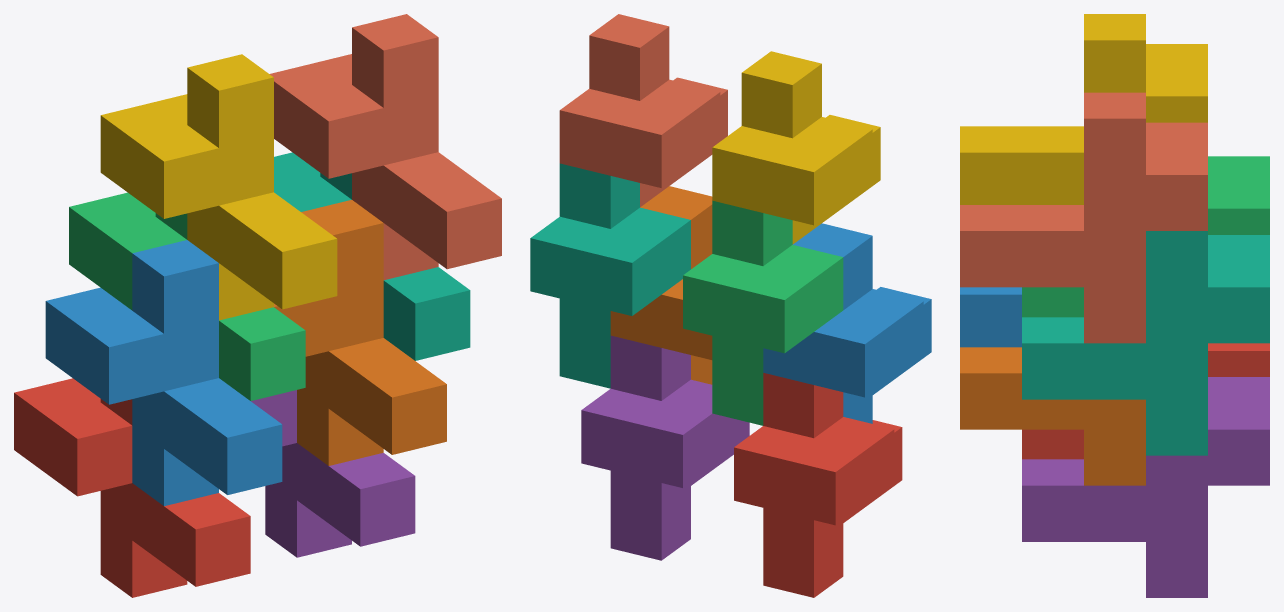
File: tiling.obj
3 renders of one model, left to right at view 1: azimuth 30°, elevation 25°; view 2: azimuth 150°, elevation 25°; view 3: azimuth 270°, elevation 25°, orthographic. The views are drawn at different scales.
Parts seen in each view (by area): view 1: copy_1_domain_2, copy_1_domain_4, copy_1_domain_8, copy_1_domain_1, copy_1_domain_6, copy_1_domain_3, copy_1_domain_5, copy_1_domain_7; view 2: copy_1_domain_1, copy_1_domain_5, copy_1_domain_3, copy_1_domain_7, copy_1_domain_4, copy_1_domain_8, copy_1_domain_2, copy_1_domain_6; view 3: copy_1_domain_8, copy_1_domain_7, copy_1_domain_5, copy_1_domain_4, copy_1_domain_6, copy_1_domain_3, copy_1_domain_1, copy_1_domain_2.
Boxes of the visible parts, x1,y1,x2,y2 form: copy_1_domain_2: [45, 240, 282, 506]; copy_1_domain_4: [100, 54, 337, 320]; copy_1_domain_8: [269, 14, 501, 280]; copy_1_domain_1: [14, 378, 250, 597]; copy_1_domain_6: [274, 200, 446, 465]; copy_1_domain_3: [69, 192, 305, 400]; copy_1_domain_5: [251, 390, 415, 557]; copy_1_domain_7: [274, 152, 470, 360]; copy_1_domain_1: [734, 373, 902, 597]; copy_1_domain_5: [581, 335, 749, 560]; copy_1_domain_3: [683, 200, 843, 425]; copy_1_domain_7: [530, 163, 690, 388]; copy_1_domain_4: [712, 51, 880, 244]; copy_1_domain_8: [559, 14, 727, 207]; copy_1_domain_2: [763, 223, 931, 423]; copy_1_domain_6: [610, 186, 712, 384]; copy_1_domain_8: [960, 92, 1207, 343]; copy_1_domain_7: [1022, 231, 1269, 455]; copy_1_domain_5: [1022, 377, 1269, 597]; copy_1_domain_4: [960, 14, 1207, 204]; copy_1_domain_6: [960, 347, 1145, 485]; copy_1_domain_3: [1022, 156, 1269, 317]; copy_1_domain_1: [1022, 343, 1269, 459]; copy_1_domain_2: [960, 287, 1021, 347].
Size of the model in its own units: 6 by 9 by 5.
